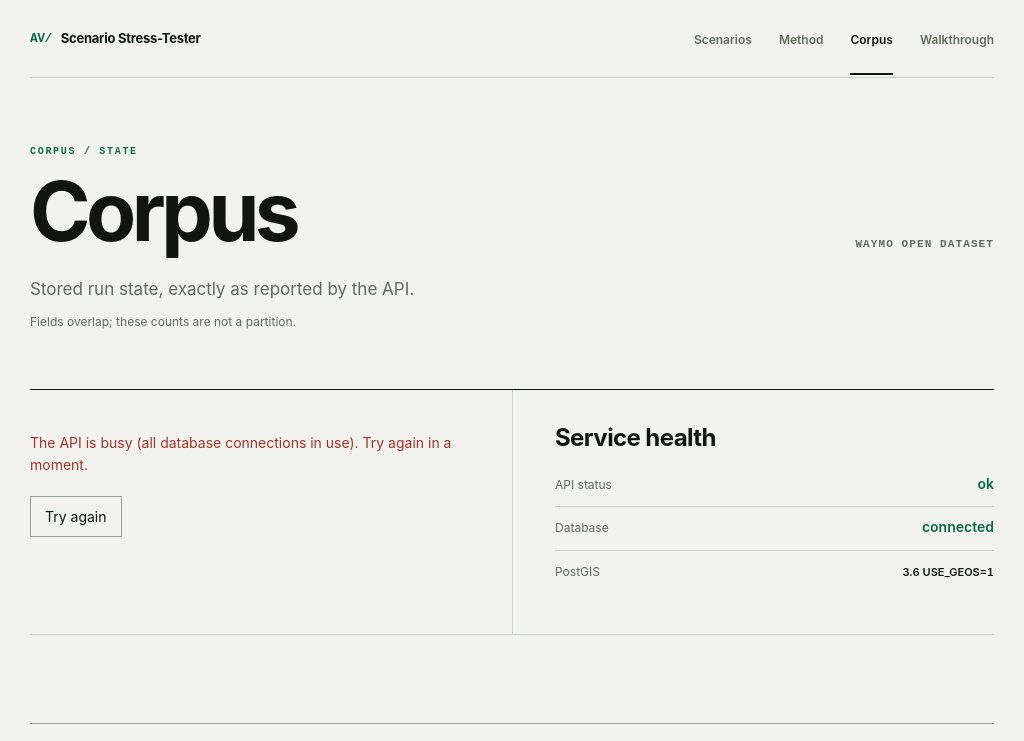
Test: retry after a failed request, without reloading › on the corpus statistics
The image size is (1024, 741).
Expected: the message "The API is busy (all database connections in use). Try again in a moment." is shown, [30,424,470,484]
Step 1. Click the button "Try again" → (76, 516), box [30,496,122,537]
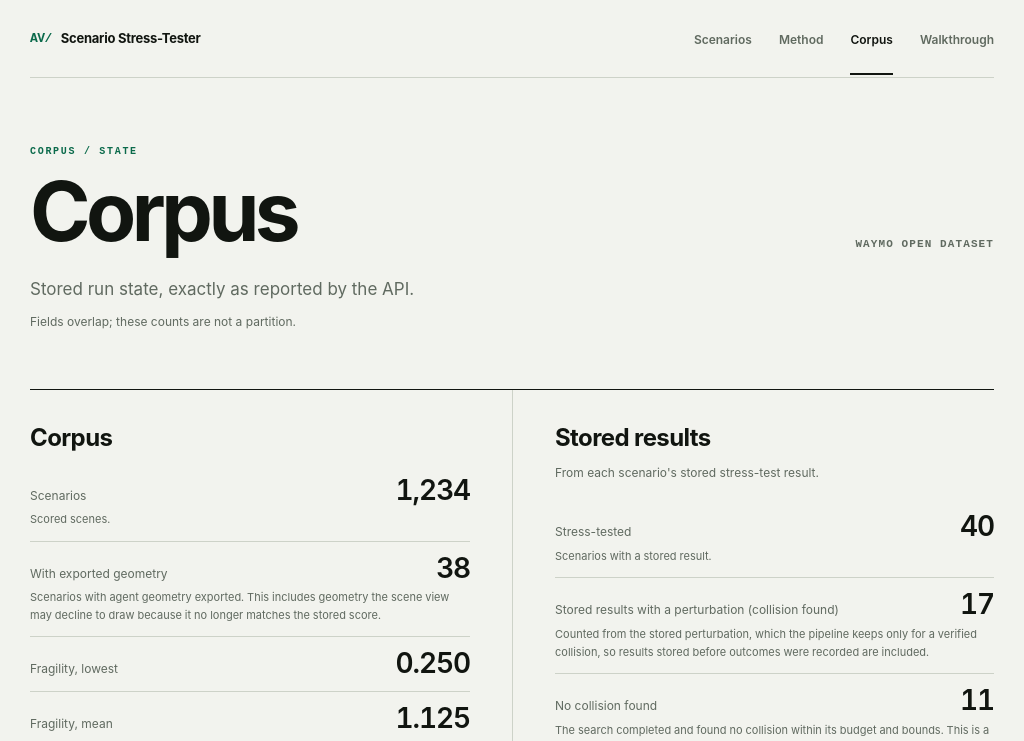
Result: the heading "Stored results" is shown at [555,423,711,452]
